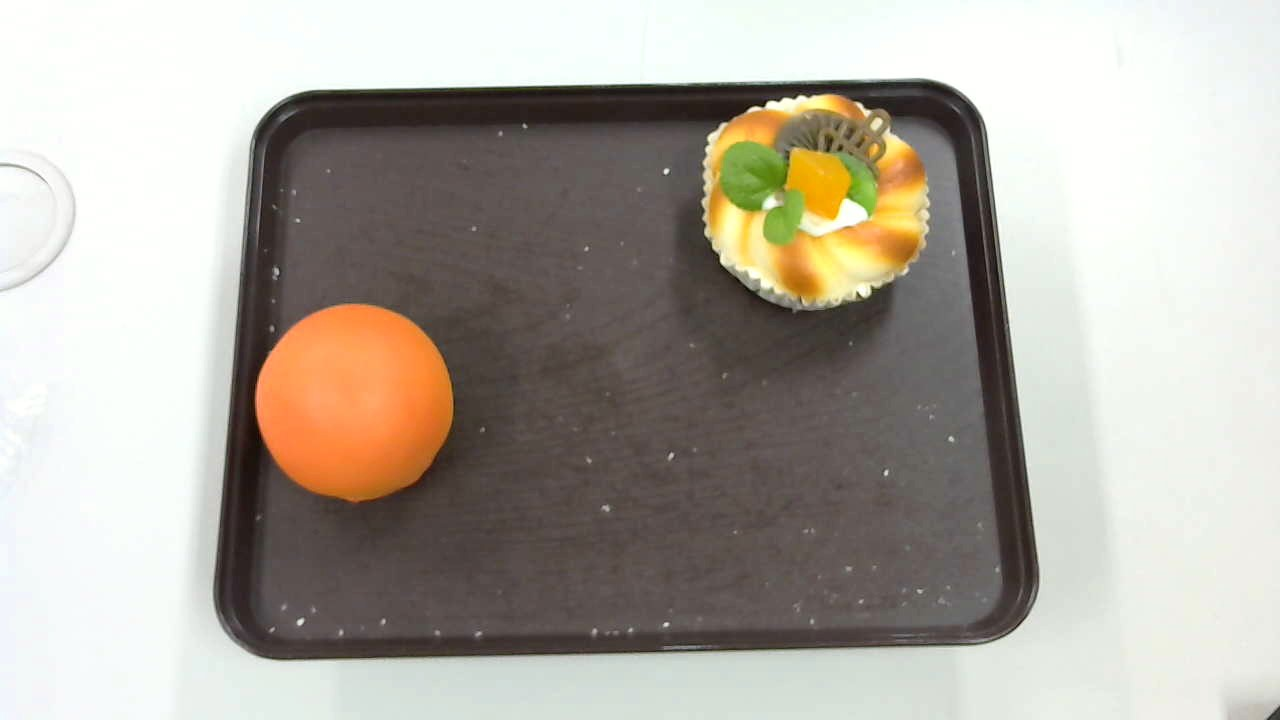bun: (255, 304, 454, 501)
fruit tart: (702, 93, 929, 312)
